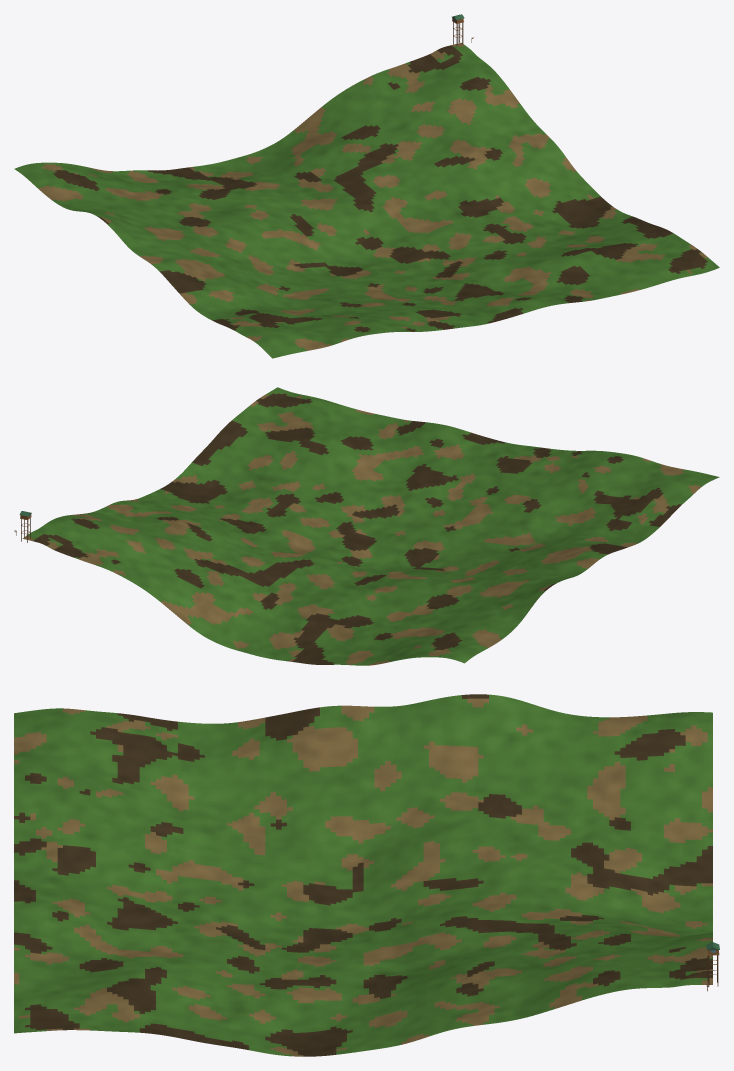
File: chunk_0_6.glb
3 views of the same model, one above another, from view 1: azimuth 30°, elevation 25°; view 2: azimuth 150°, elevation 25°; view 3: azimuth 270°, elevation 25° (orthographic). The views are drawn at different scales.
Parts seen in each view (by area): view 1: Surface_Grass, Surface_Dirt, Surface_Mud; view 2: Surface_Grass, Surface_Dirt, Surface_Mud; view 3: Surface_Grass, Surface_Dirt, Surface_Mud.
Part boxes in pixels (left/top/right/bottom): Surface_Grass: left=14, top=45, right=719, bottom=358; Surface_Dirt: left=38, top=42, right=707, bottom=350; Surface_Mud: left=53, top=45, right=707, bottom=332; Surface_Grass: left=26, top=387, right=719, bottom=665; Surface_Dirt: left=22, top=394, right=701, bottom=665; Surface_Mud: left=33, top=393, right=681, bottom=664; Surface_Grass: left=14, top=694, right=712, bottom=1056; Surface_Dirt: left=14, top=698, right=712, bottom=1056; Surface_Mud: left=14, top=694, right=712, bottom=1056.
Size of the model in its own units: 262 by 49.73 by 259.
